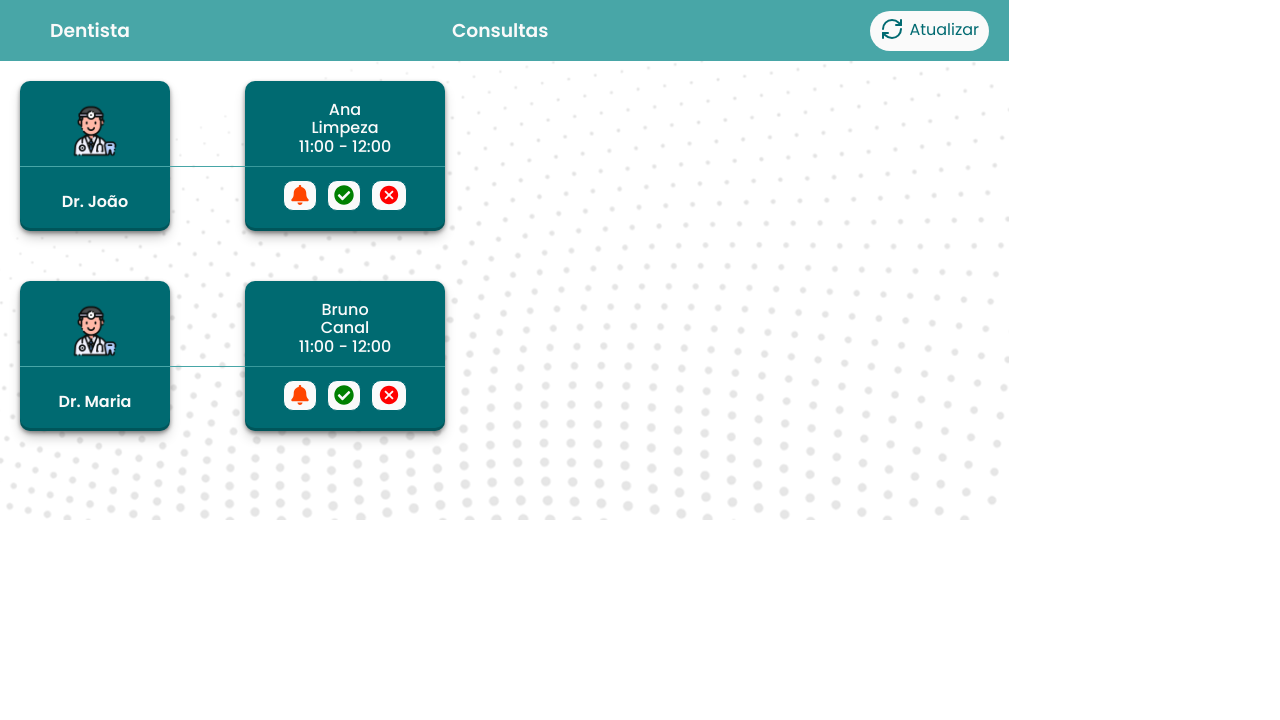
Dashboard do Recepcionista - Resume › abre o modal com type = CANCEL e dados da consulta ao clicar no botão 'Cancelar'
This screenshot has width=1280, height=720.
// Espera os botões "Cancelar" carregarem
Click the button titled "Cancelar consulta" below "Limpeza": (389, 195) [371,180,407,211]
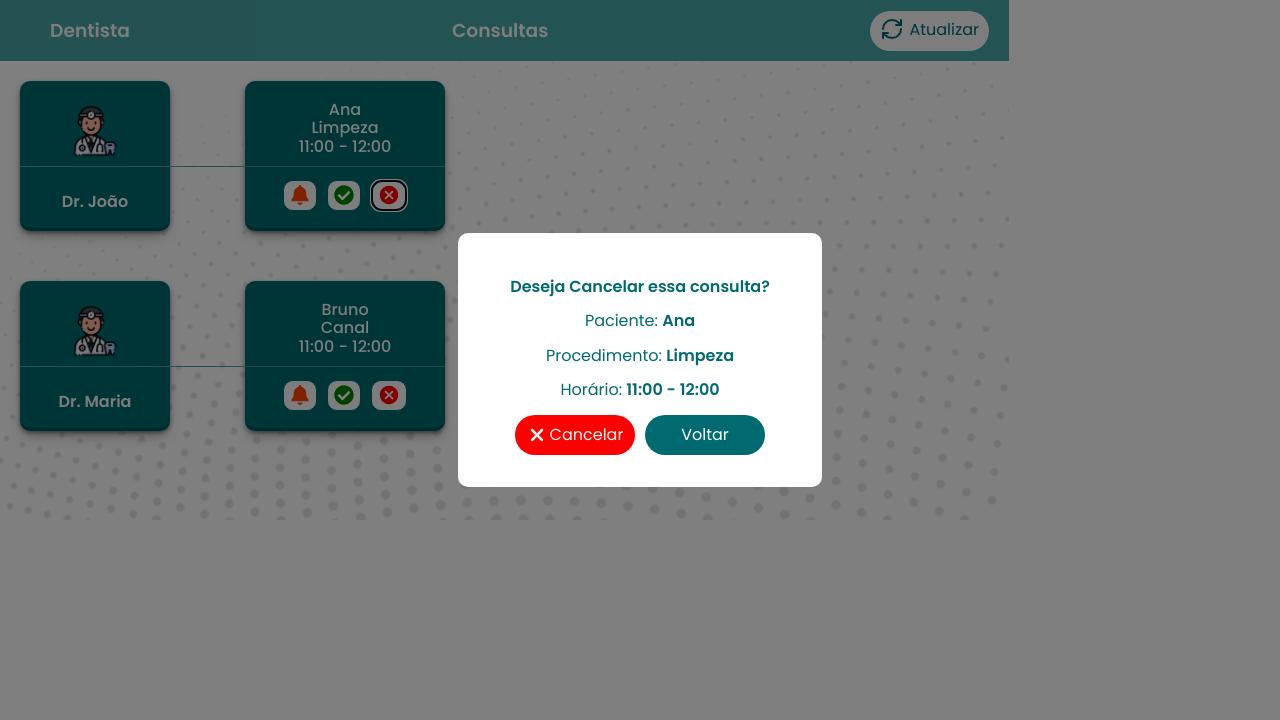
Expected: the dialog is shown
Expected: the heading "Deseja Cancelar essa consulta?" is shown, [490,278,790,296]
Expected: the text "Paciente: Ana" is shown, [585,309,695,332]
